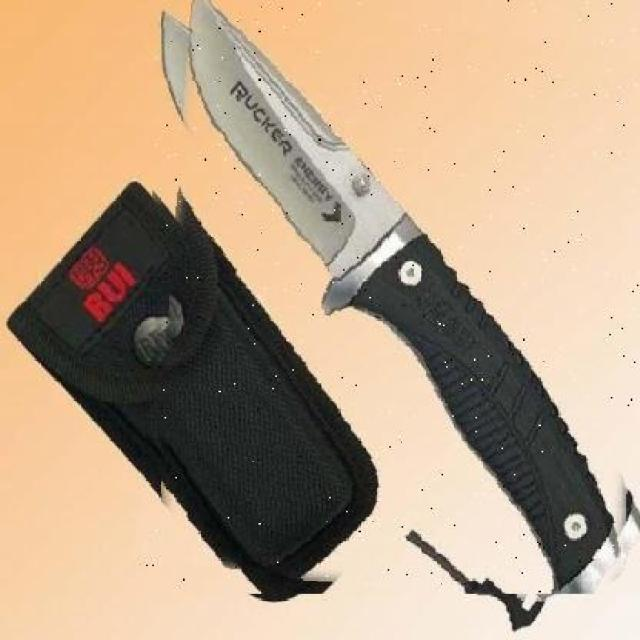knife: (146, 0, 640, 594)
